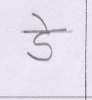e_matra: (32, 13, 51, 30)
